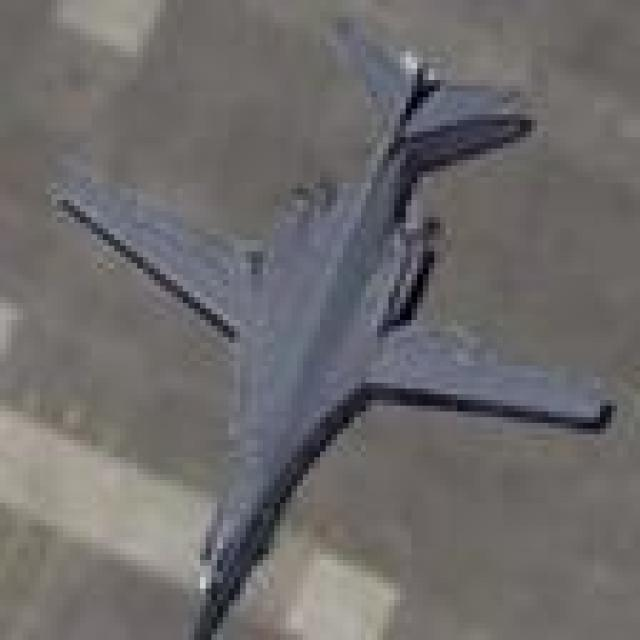B-1_TopDown: (40, 11, 617, 634)
